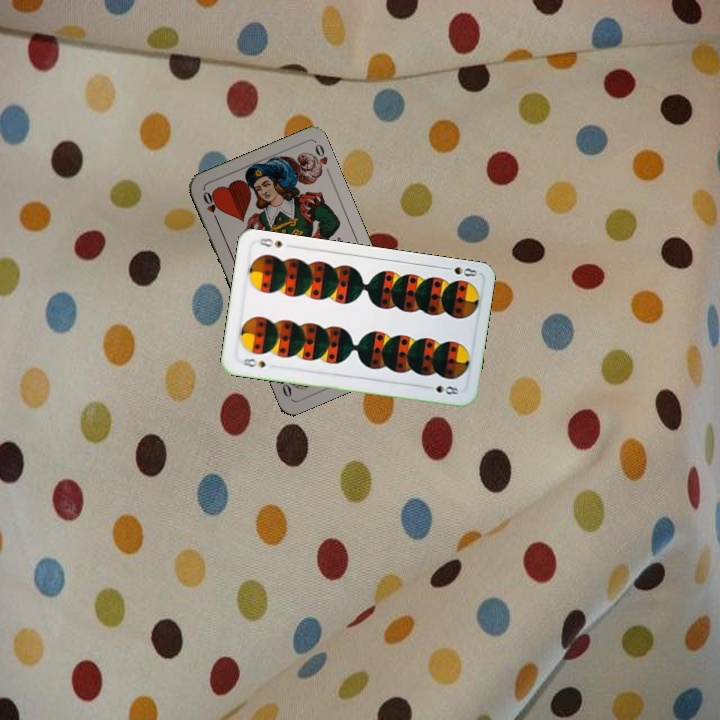HO: (199, 187, 221, 226)
S8: (439, 262, 480, 279), (235, 354, 269, 370)
